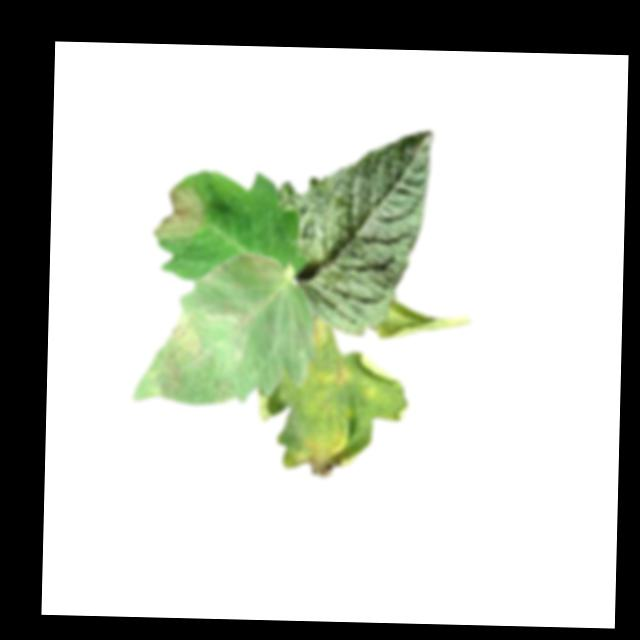Late_blight: (152, 310, 202, 400), (374, 300, 475, 341), (196, 251, 284, 288), (298, 428, 356, 478), (154, 184, 205, 240), (324, 359, 350, 389), (213, 375, 234, 405), (311, 315, 328, 350)
